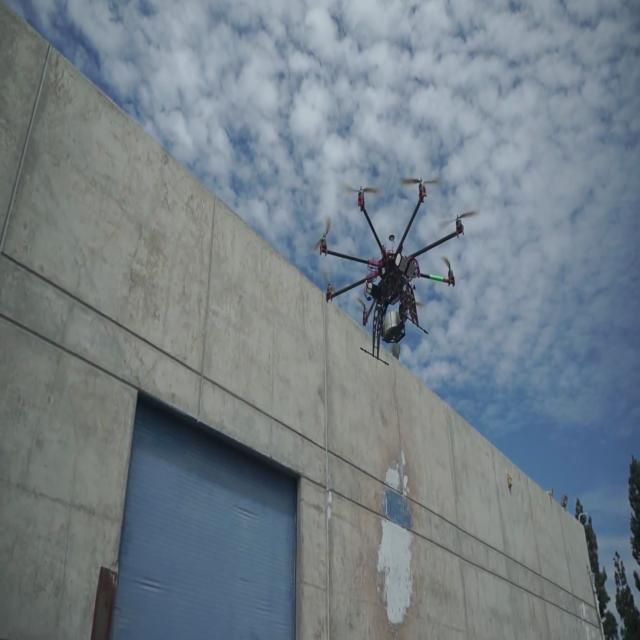drone: (294, 153, 482, 386)
